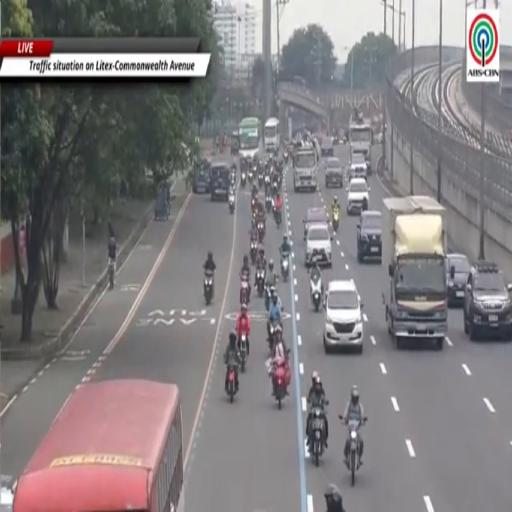bus: (14, 380, 184, 511), (239, 118, 260, 159), (264, 118, 279, 152), (239, 118, 261, 137)
car: (464, 261, 511, 341), (324, 280, 363, 354), (446, 253, 470, 307), (357, 211, 381, 263), (305, 222, 332, 267), (347, 179, 369, 215), (303, 207, 326, 241), (210, 163, 230, 201), (193, 159, 211, 194), (324, 157, 343, 187), (349, 153, 368, 181), (351, 151, 371, 174), (349, 165, 367, 181), (321, 137, 333, 156), (351, 152, 366, 165), (375, 133, 383, 143)
motorcycle: (347, 418, 367, 486), (309, 407, 326, 466), (273, 361, 289, 409), (268, 322, 282, 355), (310, 278, 322, 312), (227, 365, 237, 403), (204, 270, 213, 306), (240, 333, 248, 373), (256, 268, 266, 298), (240, 277, 249, 305), (281, 254, 289, 281), (257, 221, 265, 243), (250, 240, 257, 264), (265, 285, 271, 311), (332, 210, 339, 232), (274, 206, 281, 227), (265, 194, 273, 212), (229, 194, 235, 213), (241, 171, 247, 187), (251, 197, 257, 212), (283, 150, 289, 164), (273, 180, 278, 196), (230, 173, 236, 186), (258, 172, 263, 187), (252, 208, 257, 222), (248, 169, 253, 183), (265, 174, 270, 188)
truck: (382, 196, 447, 349), (349, 116, 373, 173), (293, 144, 318, 191)
